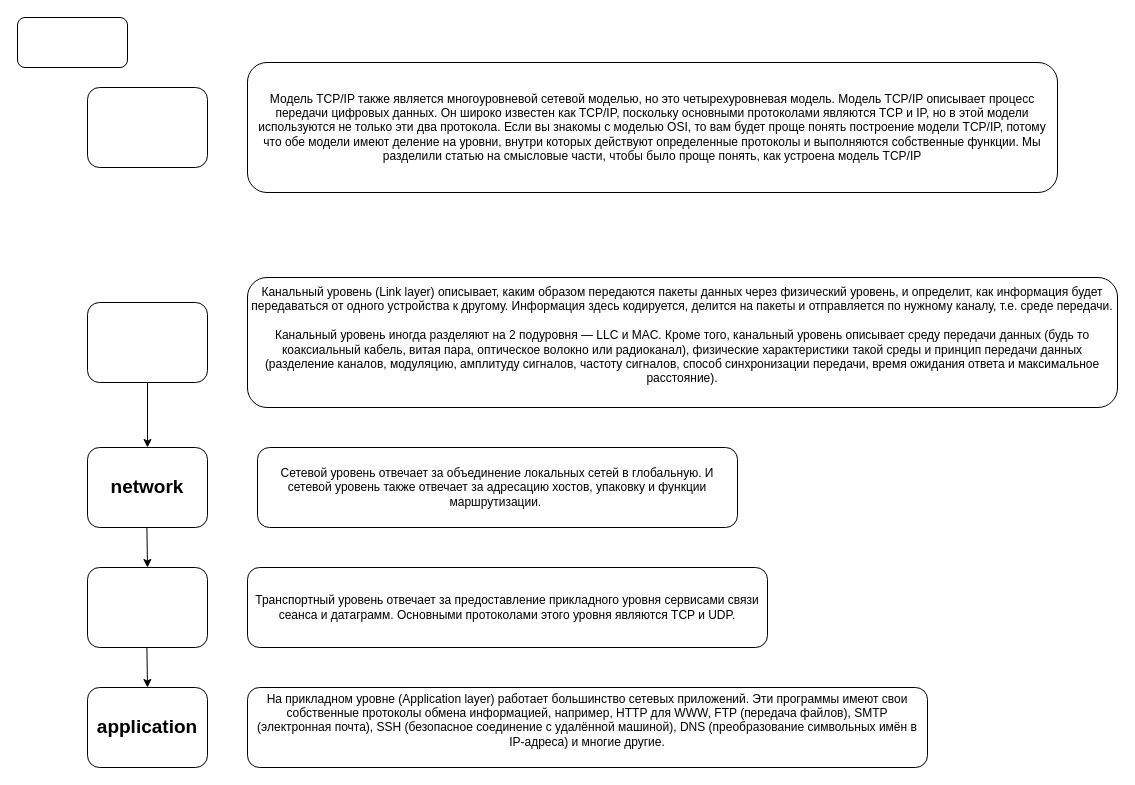
Image size: 1135x785. Some labels were removed from this diagram. The box of each missing label's shape, as (x1, y1, x2, y2) in pixels:
link layer: (86, 302, 208, 382)
Networks: (16, 16, 128, 68)
tcp/ip: (86, 86, 208, 168)
transport: (86, 566, 208, 648)
